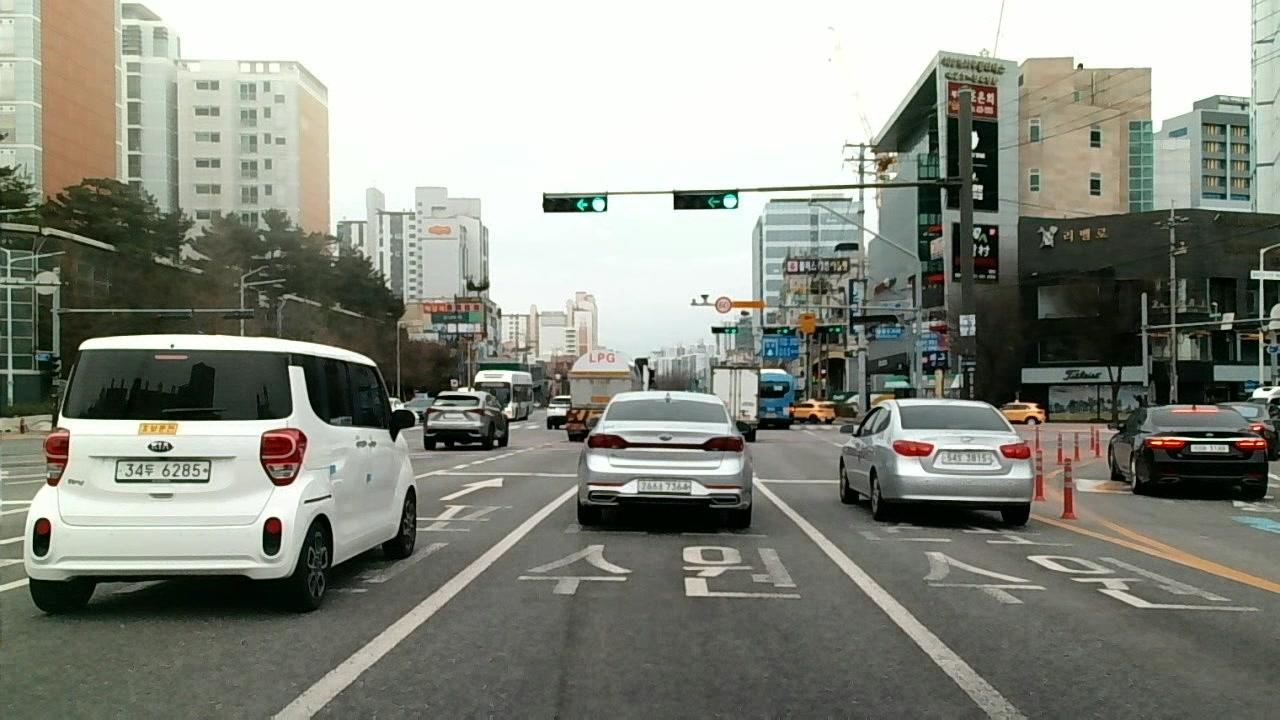vcrack: (551, 583, 579, 720)
